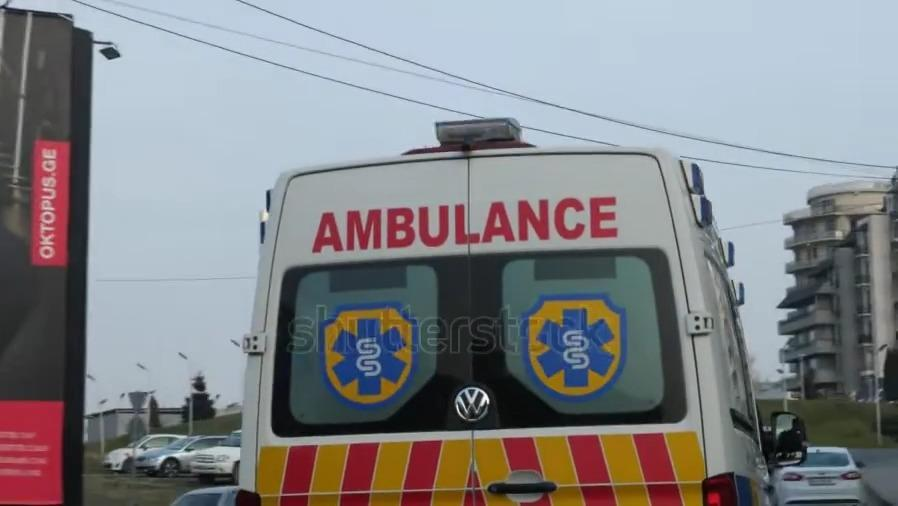Ambulance: (310, 196, 630, 252), (523, 291, 628, 398), (318, 298, 418, 408)
